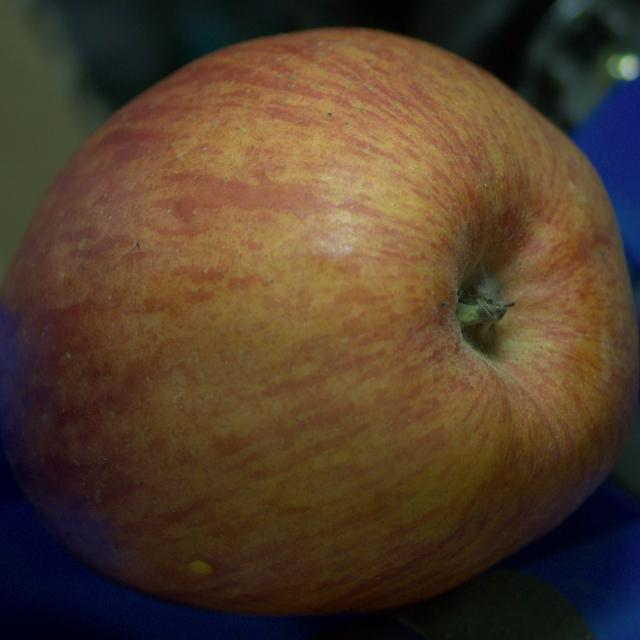apple: (0, 29, 639, 614)
pest: (189, 561, 212, 574)
